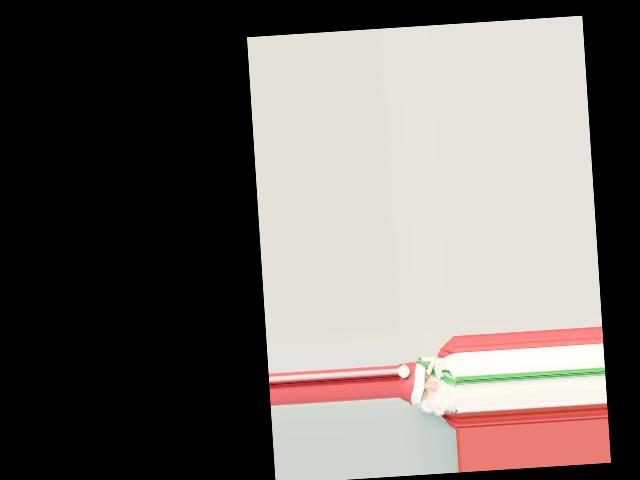beer: (416, 354, 457, 387)
